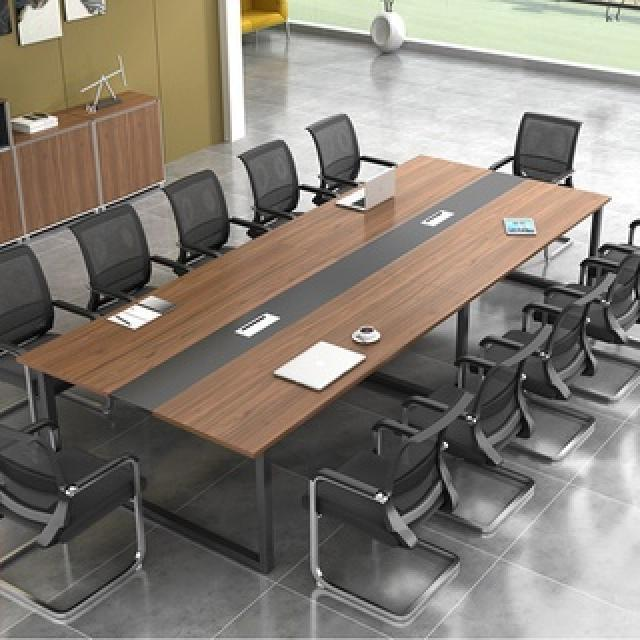table: (33, 153, 616, 451)
